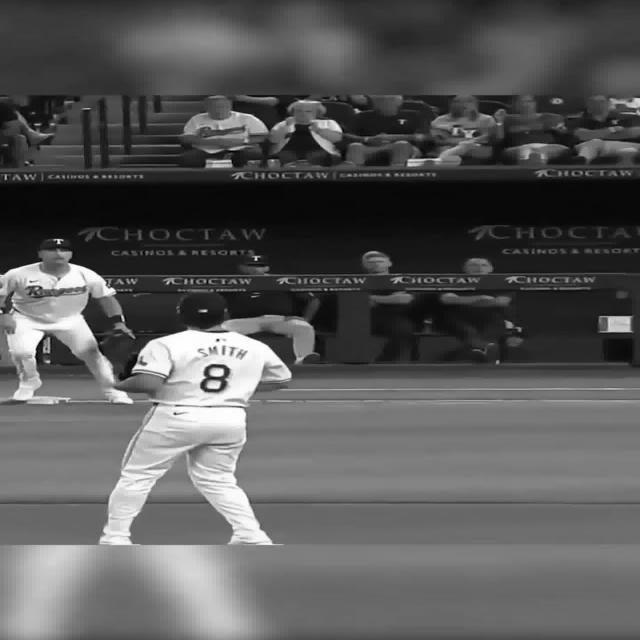base: (0, 396, 71, 405)
shoe: (11, 382, 40, 401), (104, 389, 133, 405)
